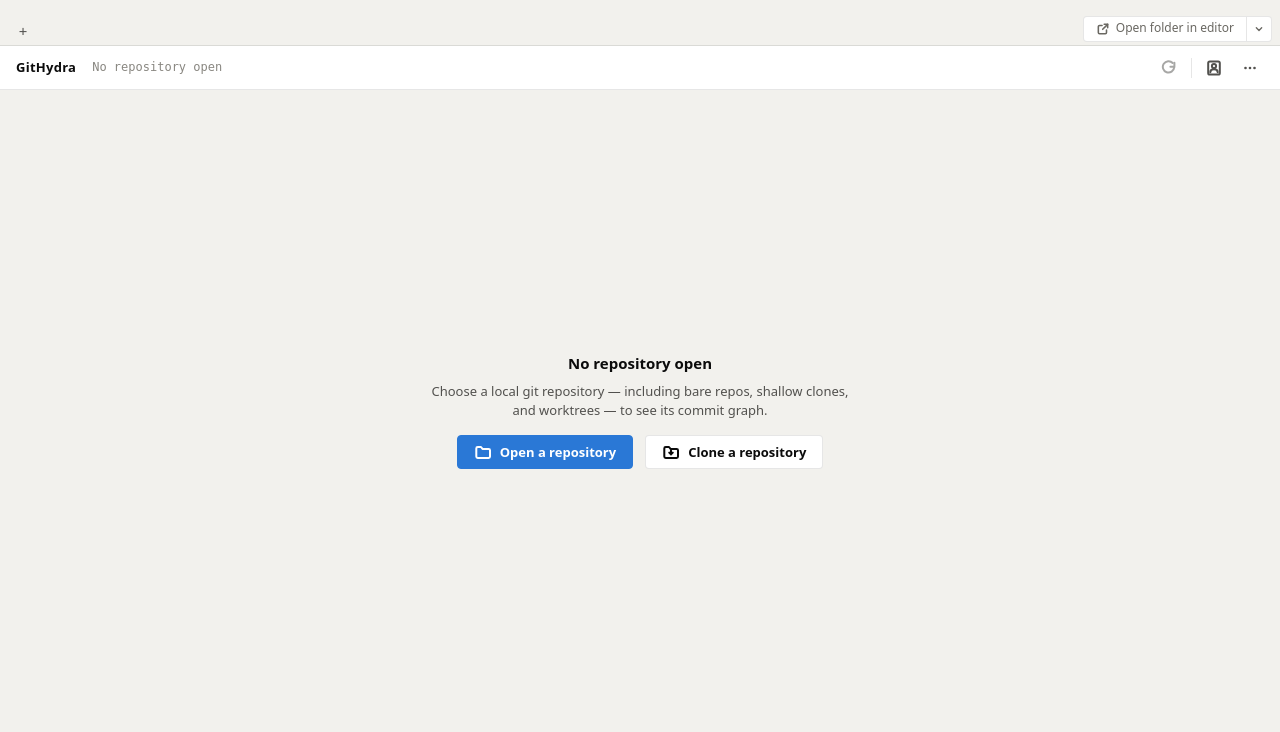
Test: App › shows the AC7 empty state for a zero-commit repo
The image size is (1280, 732).
Click the button "Open a repository": (545, 452) top-left (457, 435), bottom-right (633, 469)
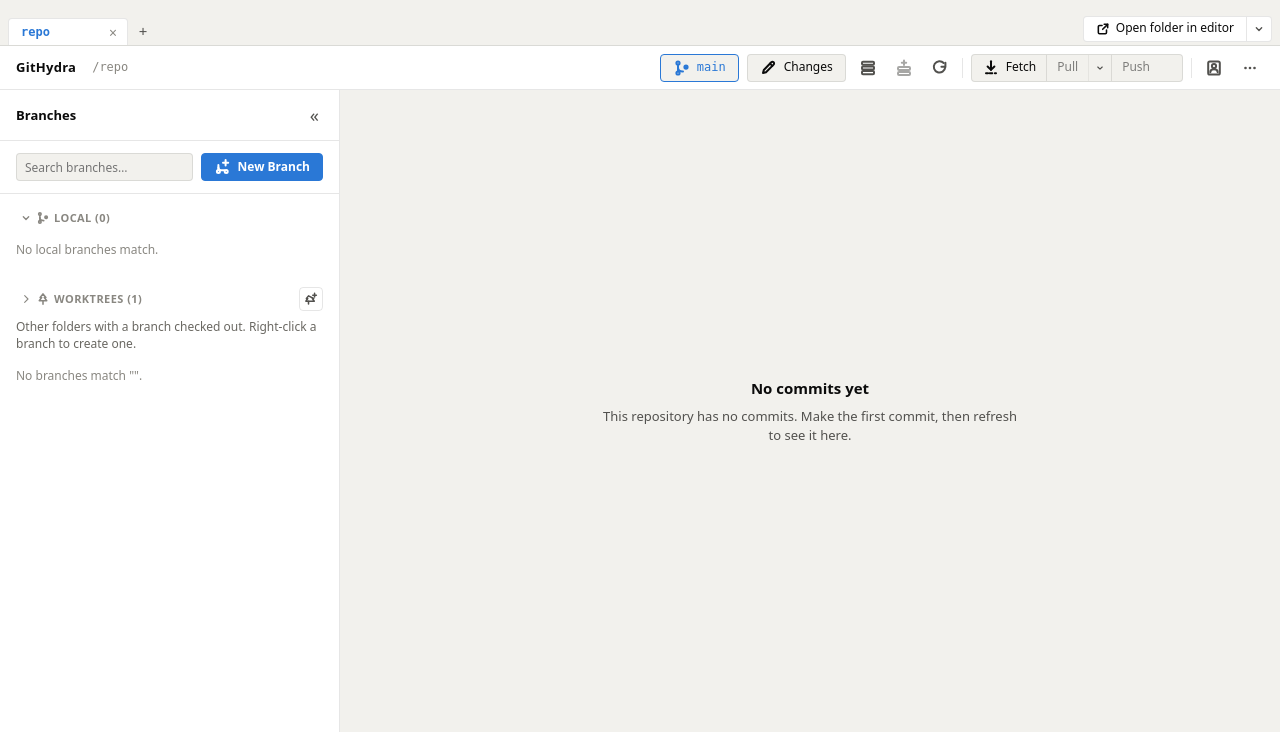
Expected: the text "No commits yet" is shown, top-left (751, 378), bottom-right (869, 399)
